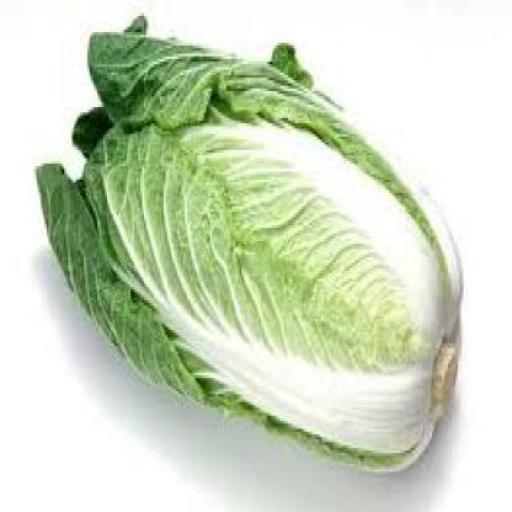biodegradable: (32, 10, 460, 474)
